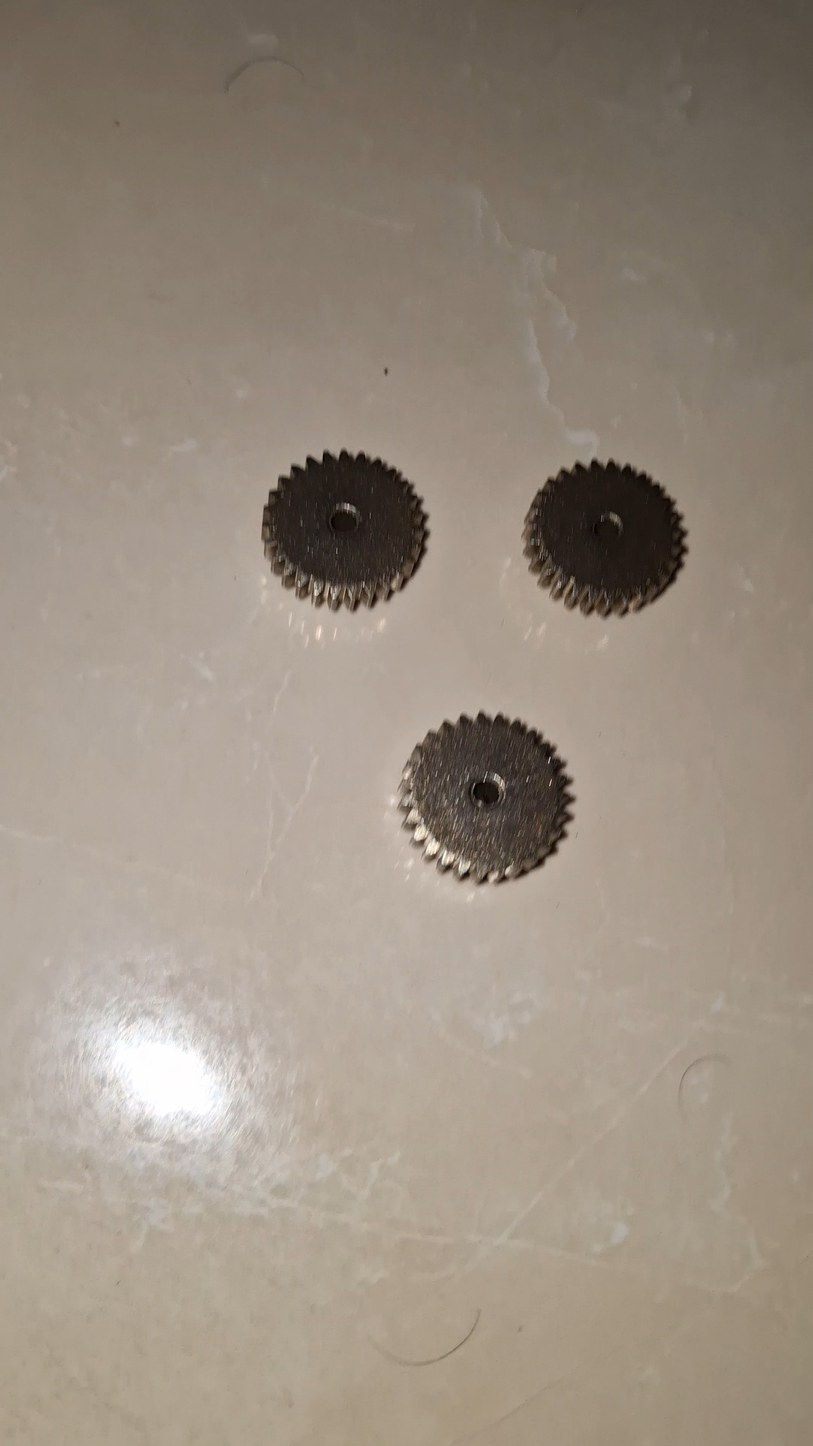spur gear: (399, 713, 571, 881), (262, 451, 425, 609), (523, 461, 685, 615)
